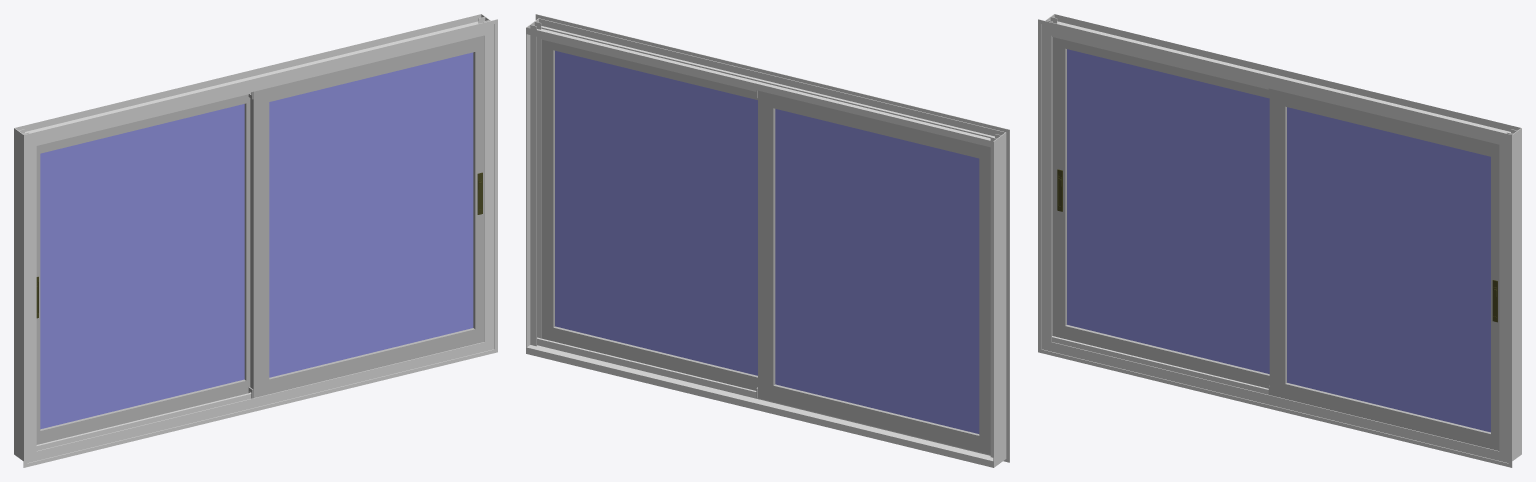
The model's file is cam.fbx.
3 views of the same model, side by side, from view 1: azimuth 30°, elevation 25°; view 2: azimuth 150°, elevation 25°; view 3: azimuth 330°, elevation 25° (orthographic).
Parts seen in each view (by area): view 1: Window.R, Window.L, WindowFrame; view 2: Window.L, Window.R, WindowFrame; view 3: Window.R, Window.L, WindowFrame.
Boxes of the visible parts, bbox=[...] form: Window.R: bbox=[248, 35, 483, 398]; Window.L: bbox=[36, 94, 250, 444]; WindowFrame: bbox=[14, 14, 497, 467]; Window.L: bbox=[756, 90, 990, 454]; Window.R: bbox=[541, 39, 757, 390]; WindowFrame: bbox=[526, 14, 1009, 467]; Window.R: bbox=[1268, 88, 1499, 450]; Window.L: bbox=[1053, 37, 1269, 388]; WindowFrame: bbox=[1038, 14, 1521, 467].
Bounding box in the file's own units: 152 × 102 × 7.2.
